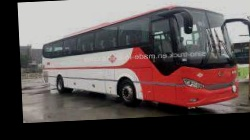bus: (40, 3, 250, 114)
